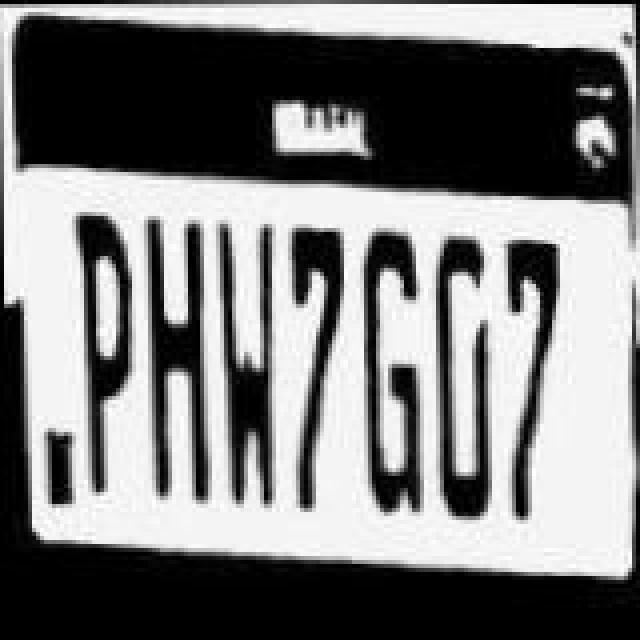7: (496, 232, 588, 528), (280, 224, 352, 516)
D: (426, 228, 502, 524)
G: (356, 226, 428, 510)
H: (138, 218, 222, 510)
P: (70, 208, 146, 496)
W: (218, 214, 286, 514)
